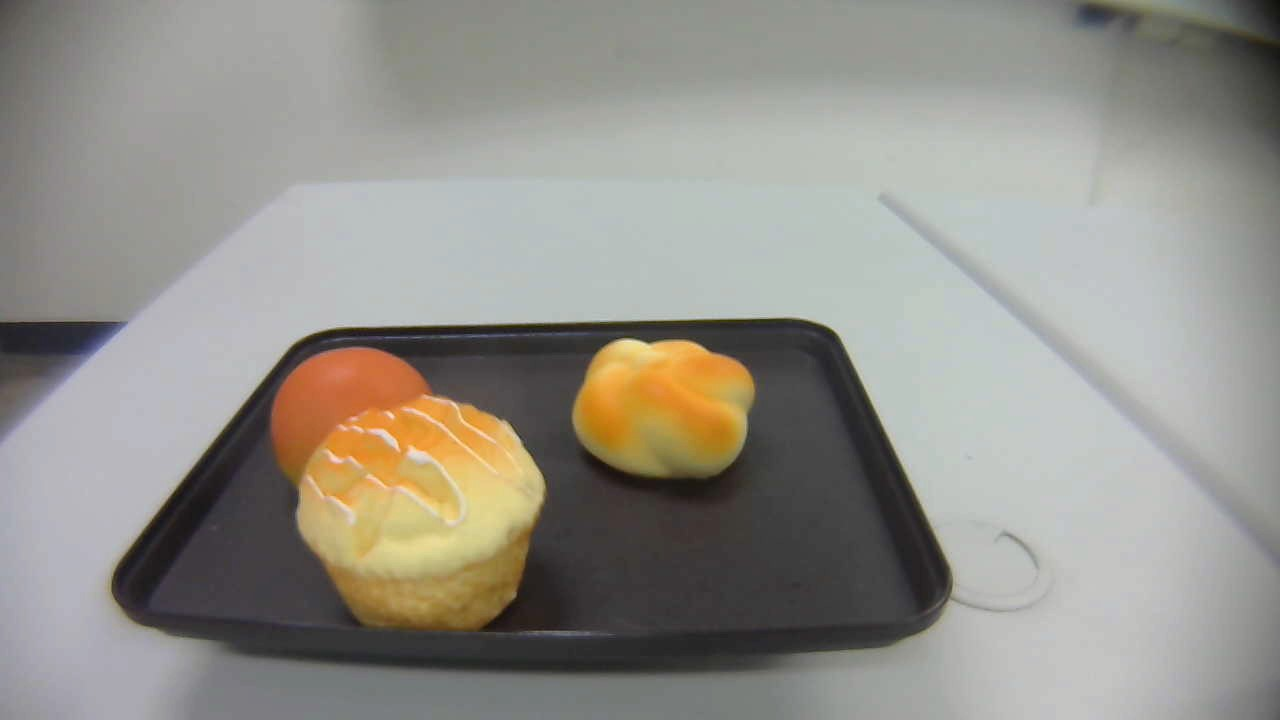bun: (270, 345, 434, 501)
cupcake: (296, 395, 546, 630)
twist bread: (571, 338, 755, 479)
